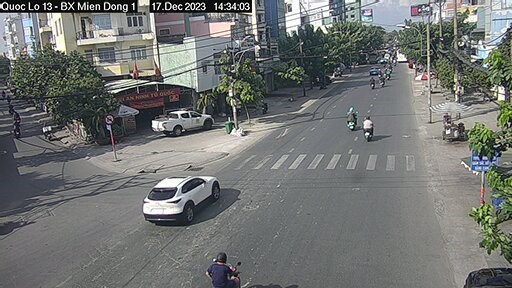car: (138, 173, 221, 222), (149, 109, 216, 137)
motorbike: (361, 116, 379, 141), (344, 105, 359, 132)
